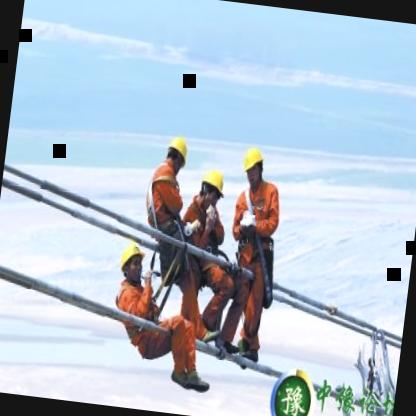helmet: (195, 163, 228, 214), (112, 238, 146, 286), (238, 140, 268, 188), (163, 132, 191, 173)
